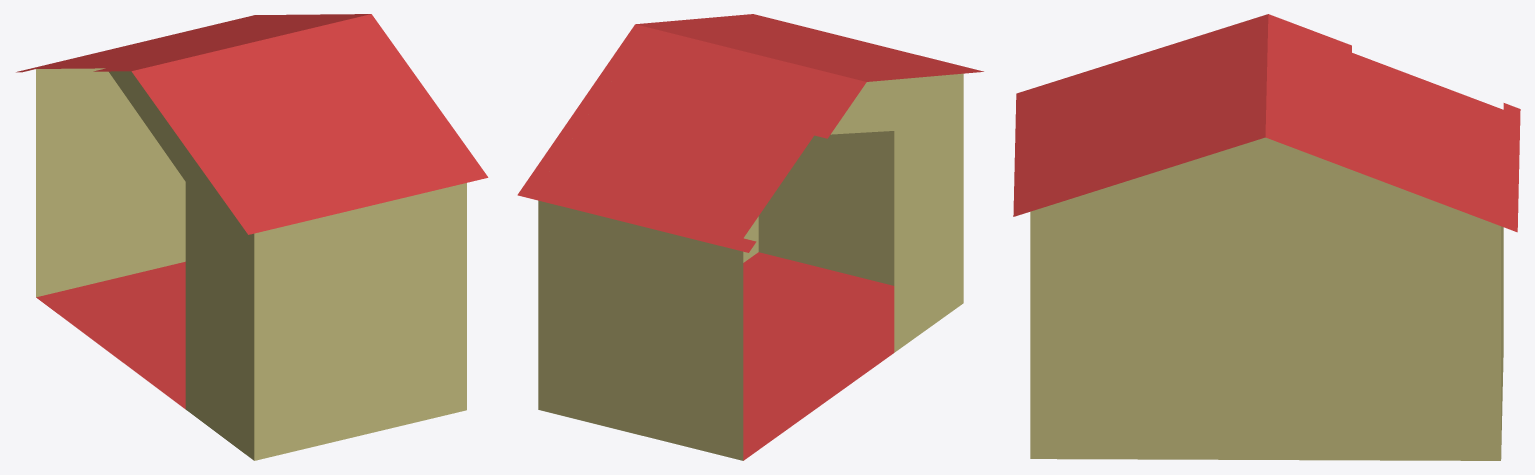
3 views of the same model, side by side, from view 1: azimuth 30°, elevation 25°; view 2: azimuth 150°, elevation 25°; view 3: azimuth 270°, elevation 25° (orthographic). The views are drawn at different scales.
Size of the model in its own units: 8.87 by 15.14 by 10.86.
